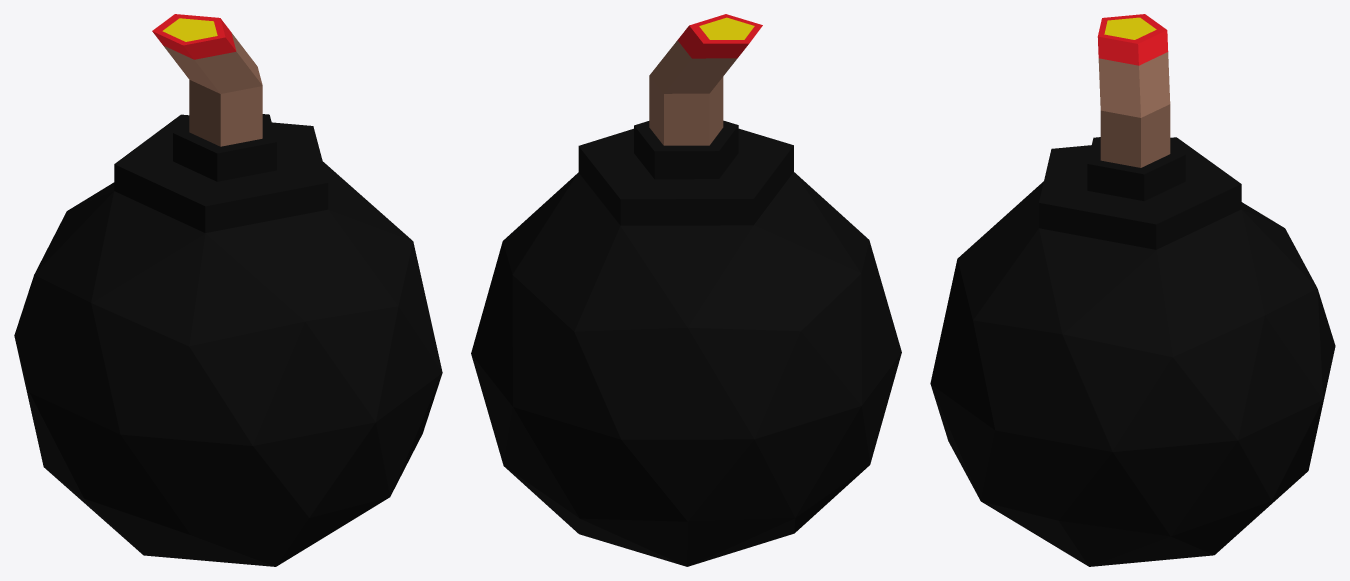
Rendered from BombProjectileModel.fbx.
3 renders of one model, left to right at view 1: azimuth 30°, elevation 25°; view 2: azimuth 150°, elevation 25°; view 3: azimuth 270°, elevation 25°, orthographic. The views are drawn at different scales.
Visible parts, largest first — view 1: BombProjectileModel; view 2: BombProjectileModel; view 3: BombProjectileModel.
Boxes of the visible parts, left/top/right/bottom form: BombProjectileModel: left=14, top=14, right=442, bottom=566; BombProjectileModel: left=471, top=14, right=901, bottom=566; BombProjectileModel: left=930, top=14, right=1335, bottom=566.
Size of the model in its own units: 1.99 by 2.69 by 1.95.
